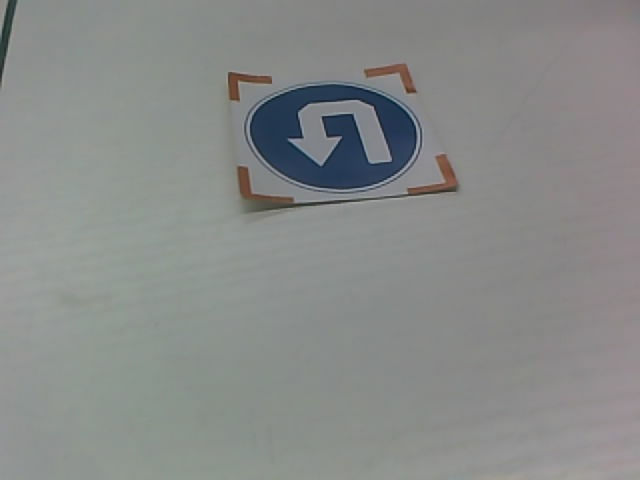turn_around: (222, 40, 464, 221)
